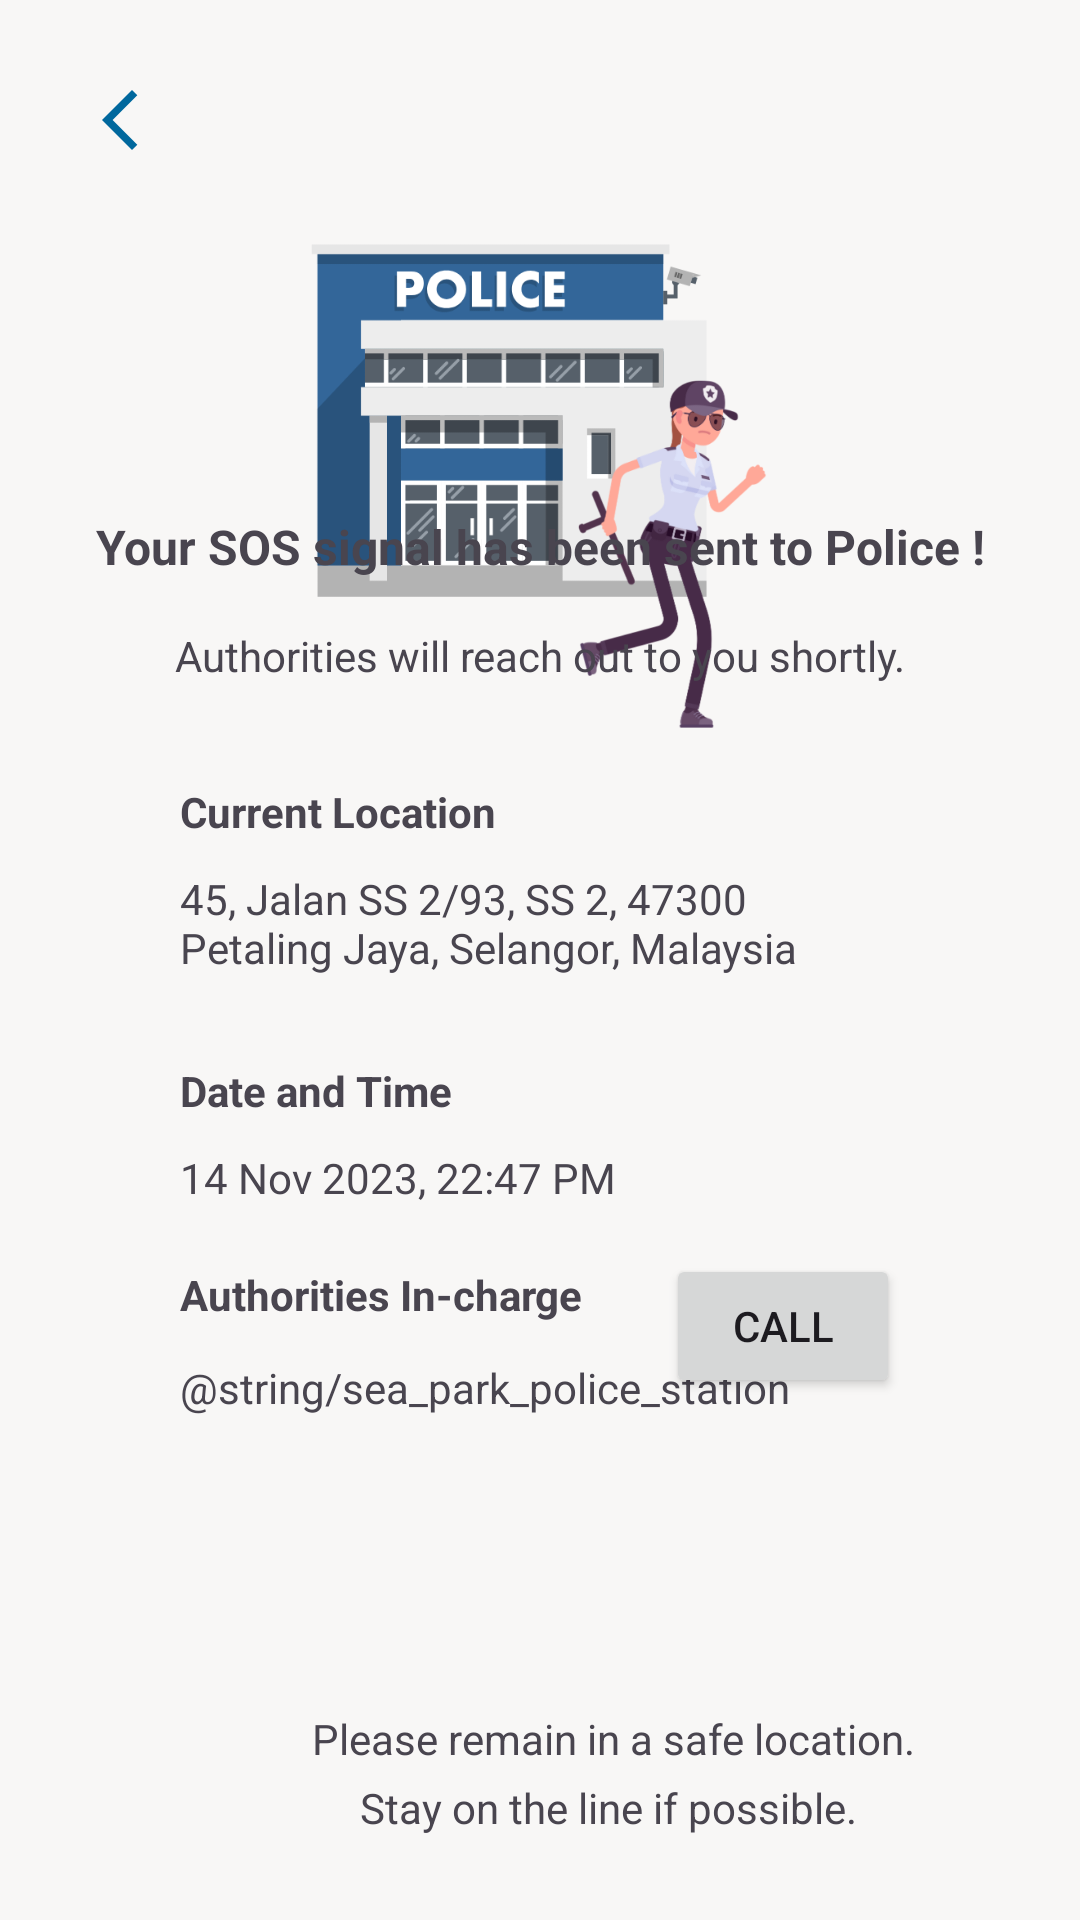

Icon bounding boxes for this 1080x1920 phone screenshot, format (x1, y1, x2, y2):
back: (102, 90, 137, 150)
